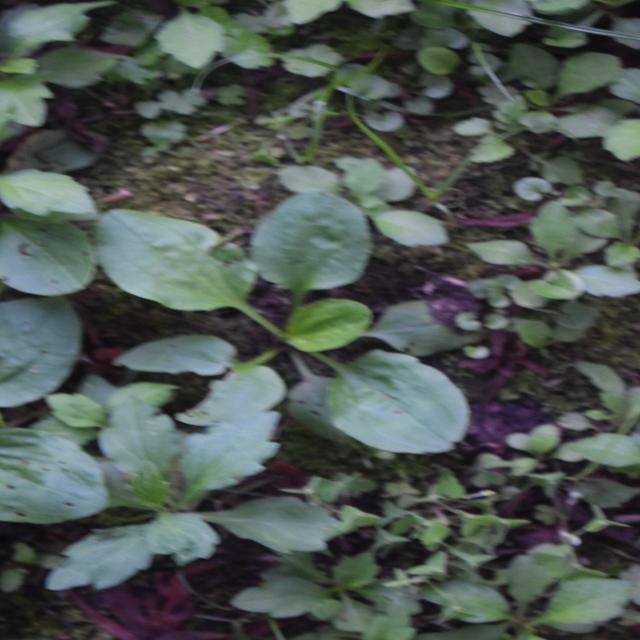plantain: (162, 133, 465, 434)
